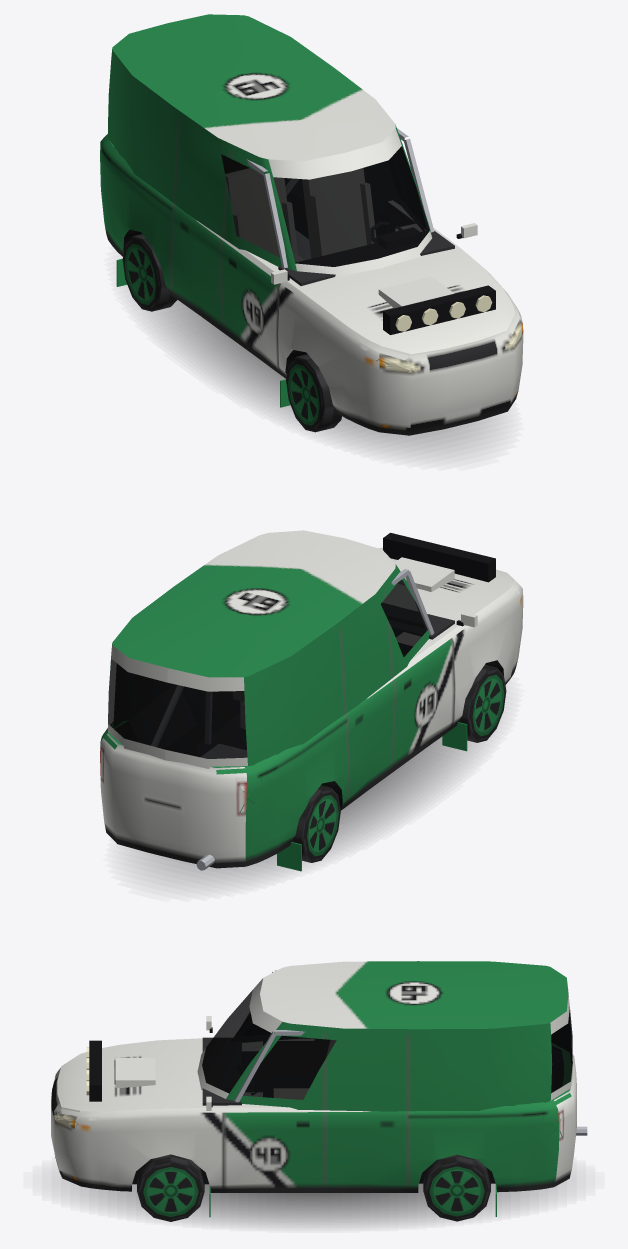
The model's file is chuvarada.glb.
The picture shows the model from 3 angles, top to bottom: view 1: azimuth 30°, elevation 25°; view 2: azimuth 150°, elevation 25°; view 3: azimuth 270°, elevation 25°; orthographic projection. The views are drawn at different scales.
Visible parts, largest first — view 1: Carroceria, Interior, Capo_malha, Porta_D_malha, Porta_TD_malha, Sombra, Roda_DD, Roda_TD, Porta_E_malha; view 2: Carroceria, Tampa_D_malha, Interior, Tampa_E_malha, Porta_TD_malha, Sombra, Porta_D_malha, Capo_malha, Roda_DD, Roda_TD; view 3: Carroceria, Porta_TE_malha, Porta_E_malha, Sombra, Capo_malha, Interior, Roda_DE, Roda_TE, Tampa_E_malha, Tampa_D_malha.
Part boxes in pixels (x1,y1,x2,y2): Carroceria: (100, 14, 523, 435); Interior: (222, 128, 454, 285); Capo_malha: (310, 255, 519, 360); Porta_D_malha: (220, 145, 291, 368); Porta_TD_malha: (170, 111, 232, 325); Sombra: (142, 300, 497, 455); Roda_DD: (286, 354, 341, 432); Roda_TD: (122, 234, 177, 311); Porta_E_malha: (390, 124, 426, 229); Carroceria: (100, 530, 523, 871); Tampa_D_malha: (163, 668, 247, 850); Interior: (114, 569, 454, 758); Tampa_E_malha: (104, 645, 167, 839); Porta_TD_malha: (339, 585, 395, 801); Sombra: (130, 737, 483, 886); Porta_D_malha: (383, 567, 454, 765); Capo_malha: (378, 532, 519, 616); Roda_DD: (458, 664, 506, 742); Roda_TD: (291, 785, 340, 862); Carroceria: (51, 961, 587, 1217); Porta_TE_malha: (324, 1027, 408, 1187); Porta_E_malha: (224, 1023, 324, 1187); Sombra: (61, 1177, 566, 1226); Capo_malha: (61, 1040, 187, 1116); Interior: (144, 970, 563, 1164); Roda_DE: (137, 1154, 204, 1221); Roda_TE: (423, 1154, 490, 1221); Tampa_E_malha: (550, 995, 576, 1168); Tampa_D_malha: (552, 983, 576, 1089).
Bounding box in the file's own units: 2.42 × 1.98 × 5.66.
14 materials, 5 textured.
